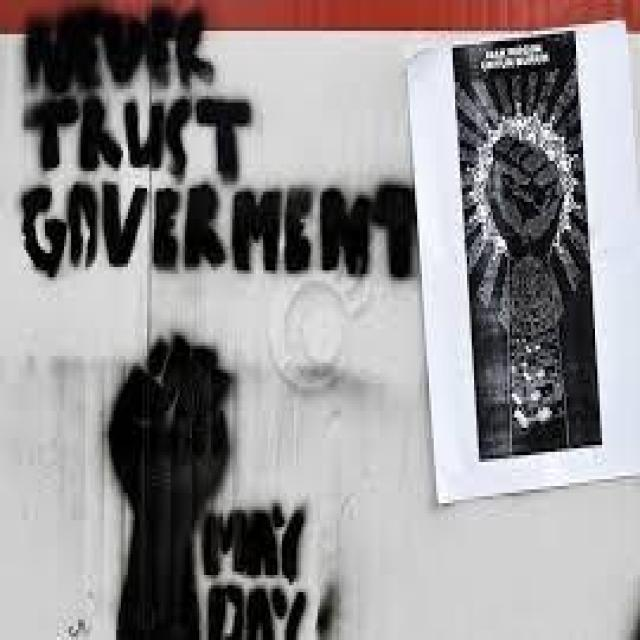nonspitting: (21, 3, 419, 280), (109, 328, 336, 640)
